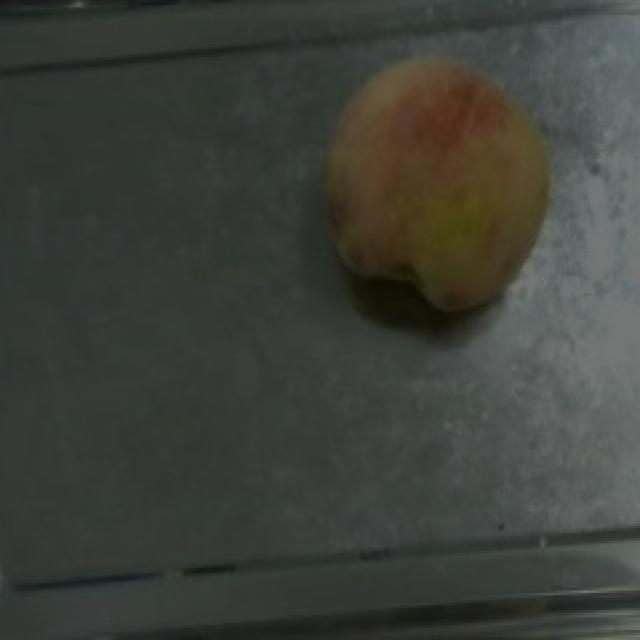Fruit: (290, 30, 570, 322)
